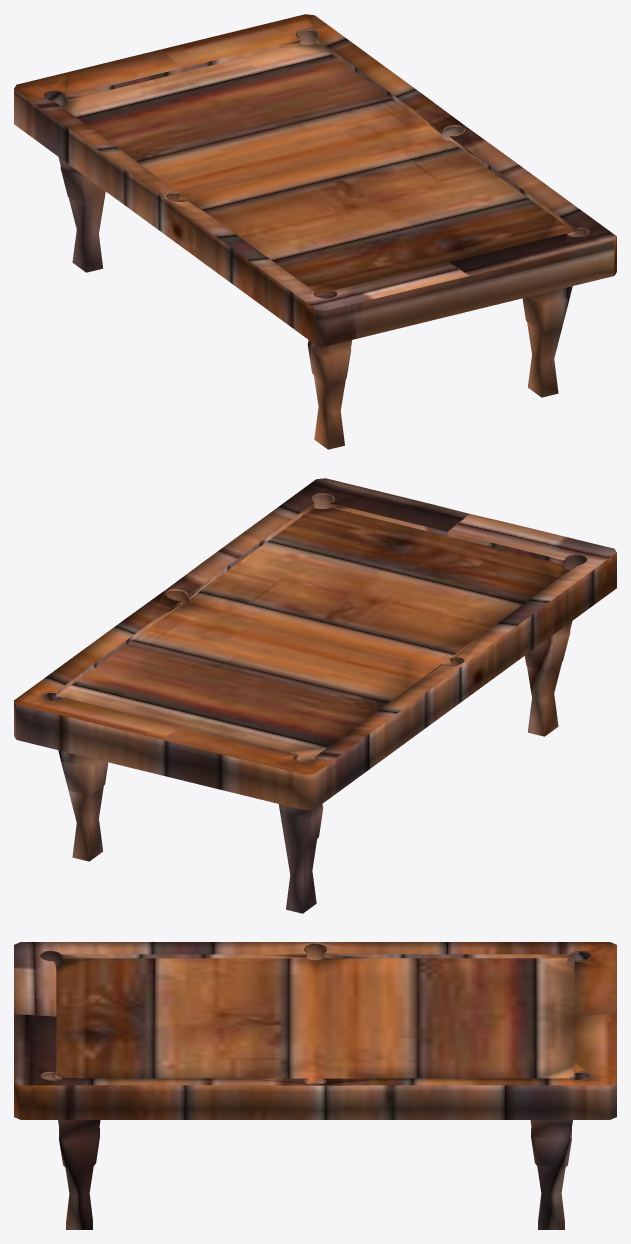
The model's file is billar4.glb.
3 renders of one model, top to bottom at view 1: azimuth 30°, elevation 25°; view 2: azimuth 150°, elevation 25°; view 3: azimuth 270°, elevation 25°, orthographic. The views are drawn at different scales.
Parts seen in each view (by area): view 1: Cube.001; view 2: Cube.001; view 3: Cube.001.
Boxes of the visible parts, x1,y1,x2,y2 form: Cube.001: [14, 14, 616, 449]; Cube.001: [14, 478, 616, 913]; Cube.001: [14, 942, 616, 1229].
Bounding box in the file's own units: 2.5 × 1.32 × 4.45.
1 material, 1 textured.
